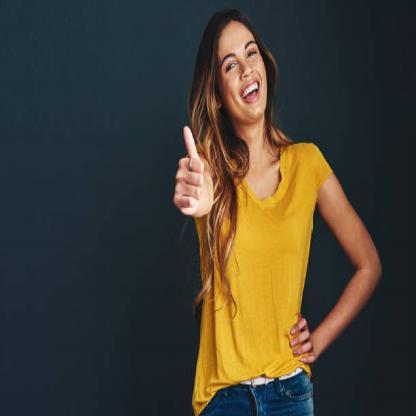thumb_up: (172, 122, 206, 218)
